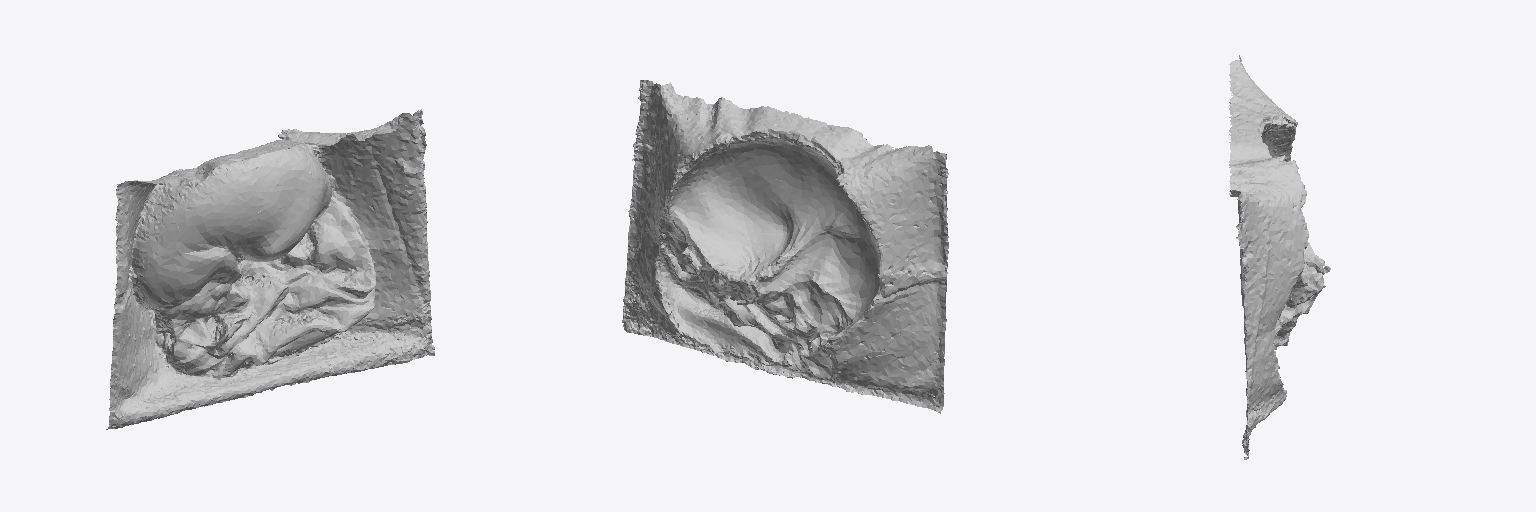
Rendered from abra_Y_up.obj.
The picture shows the model from 3 angles: view 1: azimuth 30°, elevation 25°; view 2: azimuth 150°, elevation 25°; view 3: azimuth 270°, elevation 25°; orthographic projection.
Parts seen in each view (by area): view 1: abra_korb2.001; view 2: abra_korb2.001; view 3: abra_korb2.001.
Boxes of the visible parts, box(x1,y1,x2,y2) form: abra_korb2.001: box(106, 109, 434, 429); abra_korb2.001: box(622, 80, 948, 413); abra_korb2.001: box(1229, 55, 1330, 459).
Size of the model in its own units: 2.18 by 1.63 by 0.597.